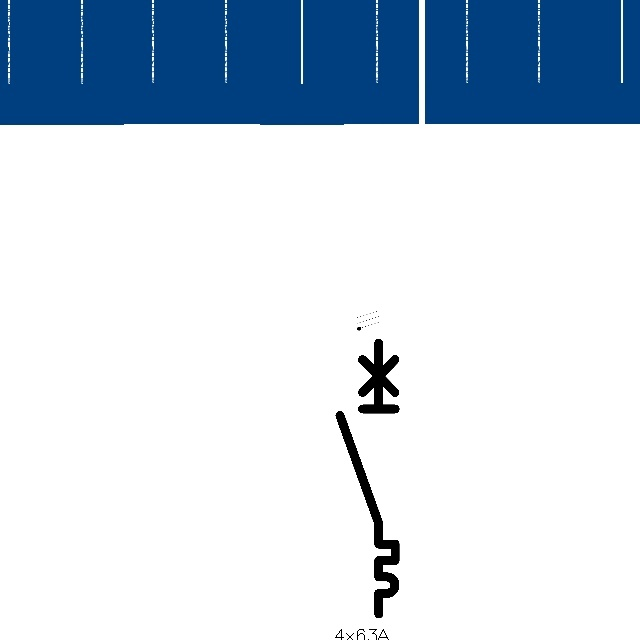interruptor_termomagnetico: (333, 336, 402, 620)
